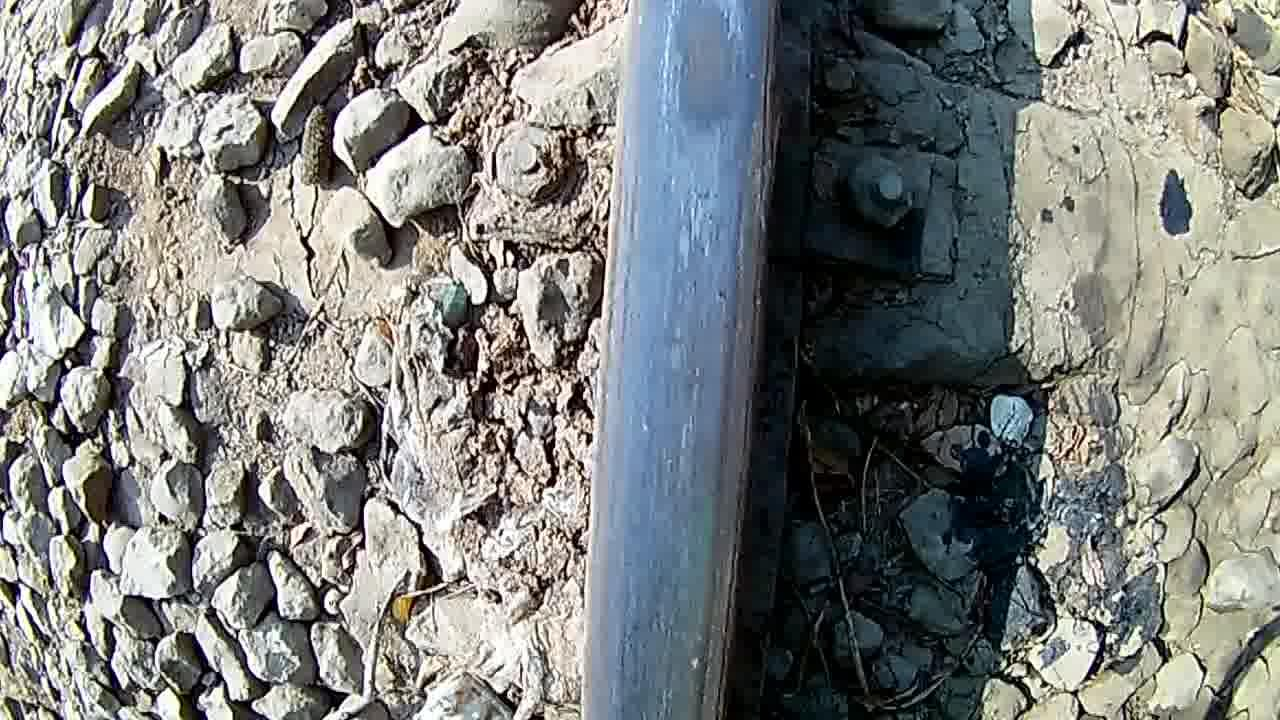bolt_missing: (622, 0, 782, 232)
